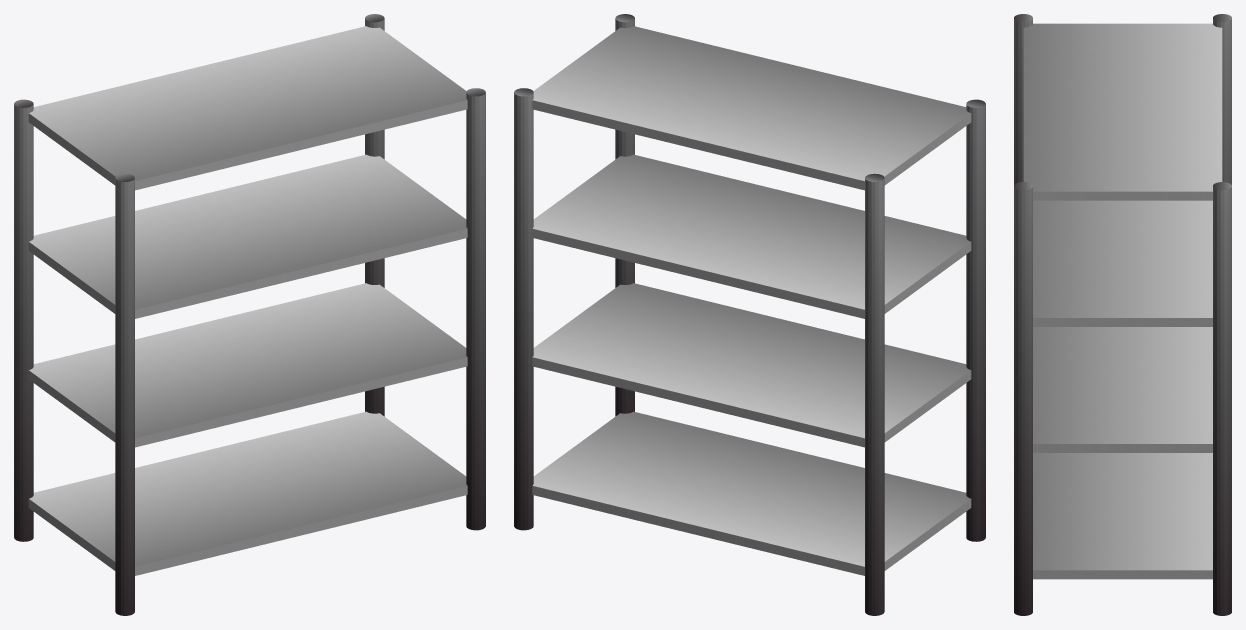
Rendered from Props_Bookshelf_05.fbx.
The picture shows the model from 3 angles, left to right: view 1: azimuth 30°, elevation 25°; view 2: azimuth 150°, elevation 25°; view 3: azimuth 270°, elevation 25°; orthographic projection.
Visible parts, largest first — view 1: Props_Bookshelf_05; view 2: Props_Bookshelf_05; view 3: Props_Bookshelf_05.
Boxes of the visible parts, x1,y1,x2,y2 form: Props_Bookshelf_05: (14,14,485,615); Props_Bookshelf_05: (514,14,985,615); Props_Bookshelf_05: (1014,14,1231,615).
Size of the model in its own units: 210 by 236 by 110.
